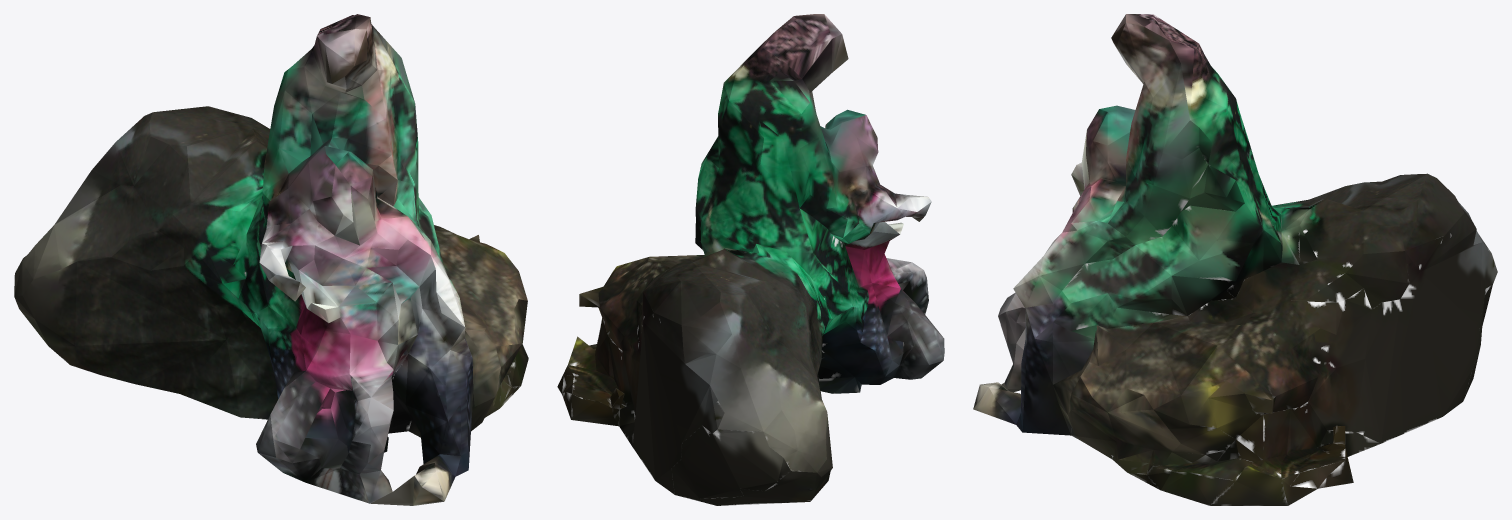
File: kakashi_17b.fbx
The picture shows the model from 3 angles, left to right: view 1: azimuth 30°, elevation 25°; view 2: azimuth 150°, elevation 25°; view 3: azimuth 270°, elevation 25°; orthographic projection. The views are drawn at different scales.
Visible parts, largest first — view 1: kakashi_17:Mesh; view 2: kakashi_17:Mesh; view 3: kakashi_17:Mesh.
Part boxes in pixels (bbox=[...]): kakashi_17:Mesh: bbox=[14, 14, 528, 505]; kakashi_17:Mesh: bbox=[557, 14, 944, 505]; kakashi_17:Mesh: bbox=[973, 14, 1497, 505].
Bounding box in the file's own units: 17.36 × 17.86 × 21.67.
Materials: 1 (1 with a texture image).
